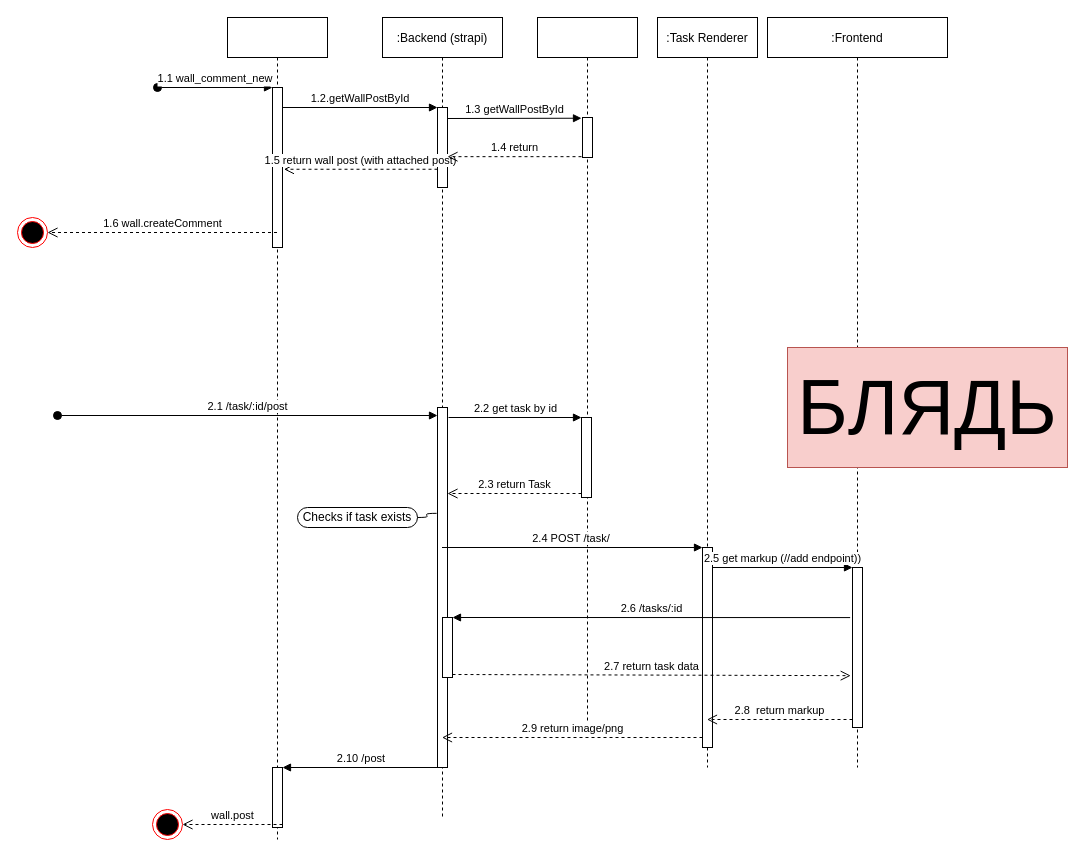
The diagram is 1085 pixels wide and 857 high, and some of its shapes have lost their labels. The box of each missing label's shape, as (x1, y1, x2, y2) in pixels:
:Database: (536, 16, 638, 728)
:Vk bot: (226, 16, 328, 840)
